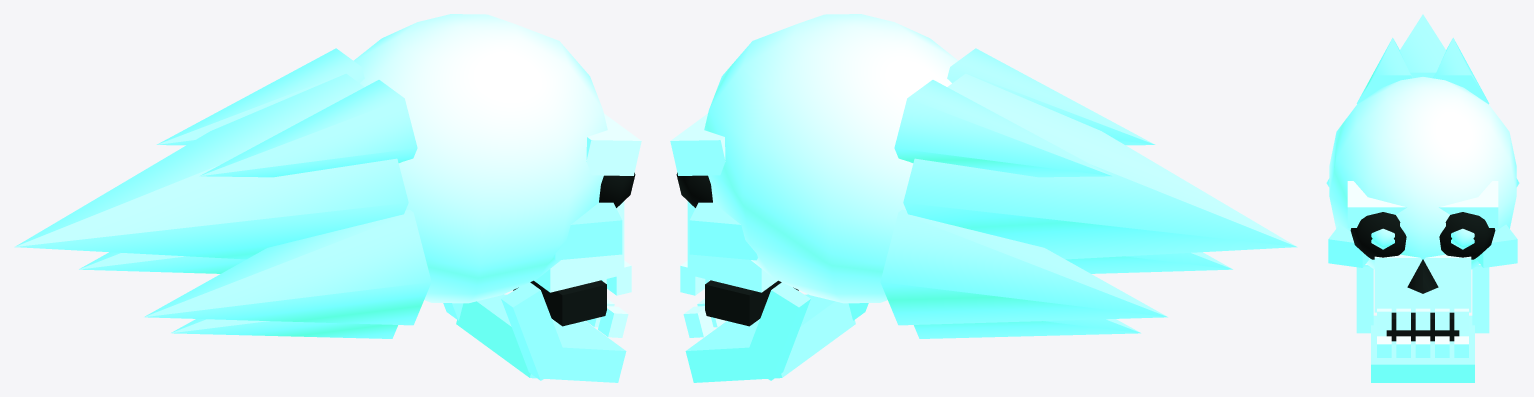
The model's file is ghost-skull.glb.
The picture shows the model from 3 angles, left to right: view 1: azimuth 30°, elevation 25°; view 2: azimuth 150°, elevation 25°; view 3: azimuth 270°, elevation 25°; orthographic projection. The views are drawn at different scales.
Parts seen in each view (by area): view 1: Mesh_Cranium, Mesh_Wisp0, Mesh_Wisp2, Mesh_Wisp4, Mesh_Jaw, Mesh_Wisp3, Mesh_JawHingeR, Mesh_Wisp5, Mesh_CheekR, Mesh_Wisp1, Mesh_Brow, Mesh_Muzzle (+4 smaller); view 2: Mesh_Cranium, Mesh_Wisp0, Mesh_Wisp1, Mesh_Wisp3, Mesh_Jaw, Mesh_Wisp4, Mesh_JawHingeL, Mesh_Wisp5, Mesh_CheekL, Mesh_Wisp2, Mesh_Brow, Mesh_Muzzle (+4 smaller); view 3: Mesh_Cranium, Mesh_Muzzle, Mesh_Jaw, Mesh_Brow, Mesh_Wisp0, Mesh_SocketL, Mesh_SocketR, Mesh_Wisp3, Mesh_Wisp4, Mesh_JawHingeL, Mesh_JawHingeR, Mesh_CheekL (+15 smaller).
Boxes of the visible parts, x1,y1,x2,y2 form: Mesh_Cranium: (353,14,607,303); Mesh_Wisp0: (14,73,408,259); Mesh_Wisp2: (144,209,431,325); Mesh_Wisp4: (199,80,417,177); Mesh_Jaw: (456,294,626,382); Mesh_Wisp3: (156,48,364,145); Mesh_JawHingeR: (501,282,568,380); Mesh_Wisp5: (171,319,397,338); Mesh_CheekR: (554,202,622,260); Mesh_Wisp1: (79,252,246,273); Mesh_Brow: (586,113,641,175); Mesh_Muzzle: (534,201,624,292); Mesh_Cranium: (704,14,958,303); Mesh_Wisp0: (903,73,1297,259); Mesh_Wisp1: (880,209,1167,325); Mesh_Wisp3: (894,80,1112,177); Mesh_Jaw: (685,294,855,382); Mesh_Wisp4: (947,48,1155,145); Mesh_JawHingeL: (743,282,810,380); Mesh_Wisp5: (914,319,1140,338); Mesh_CheekL: (689,202,757,260); Mesh_Wisp2: (1065,252,1232,273); Mesh_Brow: (670,113,725,175); Mesh_Muzzle: (687,201,777,292); Mesh_Cranium: (1329,77,1516,269); Mesh_Muzzle: (1374,254,1471,312); Mesh_Jaw: (1371,315,1474,382); Mesh_Brow: (1347,181,1498,227); Mesh_Wisp0: (1400,14,1445,78); Mesh_SocketL: (1439,212,1495,259); Mesh_SocketR: (1350,212,1406,259); Mesh_Wisp3: (1433,37,1489,104); Mesh_Wisp4: (1356,37,1412,104); Mesh_JawHingeL: (1472,265,1489,333); Mesh_JawHingeR: (1356,265,1373,333); Mesh_CheekL: (1476,224,1517,267).
Bounding box in the file's own units: 4.03 × 2.31 × 1.6.
